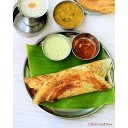dosa: (19, 59, 114, 103)
